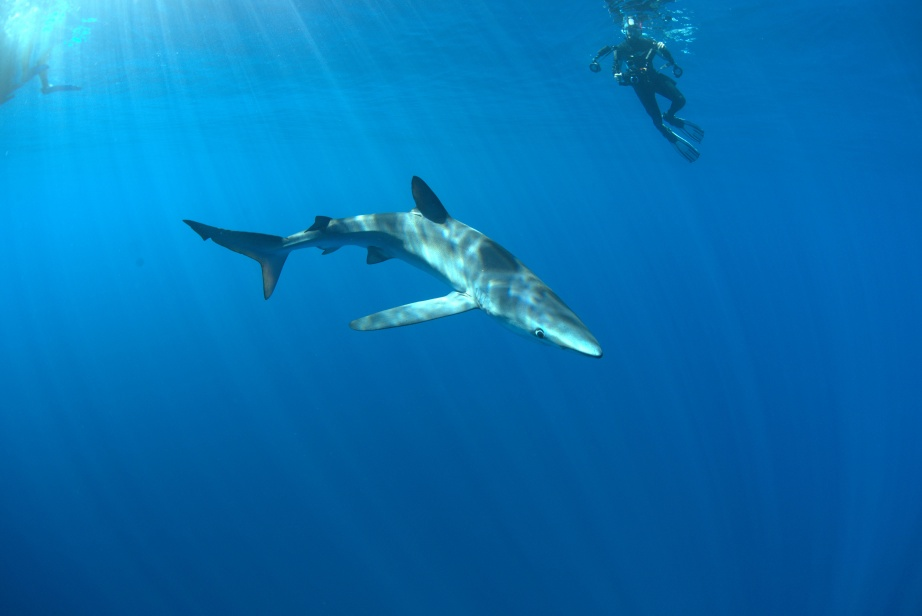Azul: (146, 150, 630, 384)
